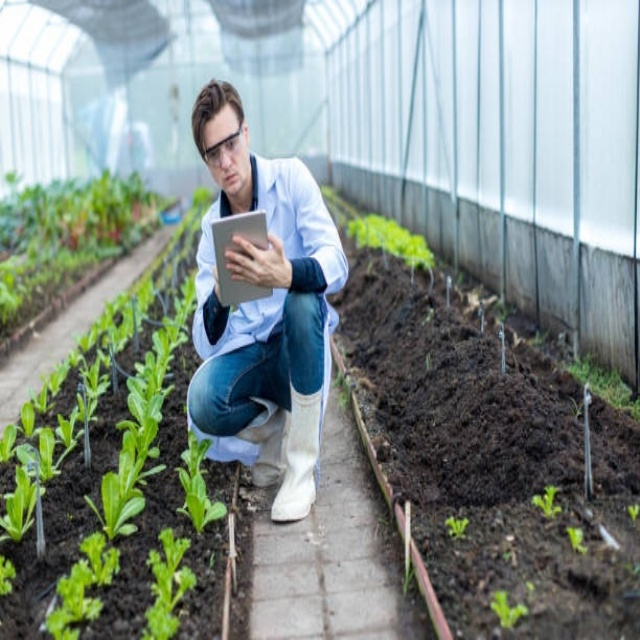Gafas: (202, 123, 244, 166)
Sin_guantes: (226, 230, 289, 290)
Sin_mascara: (216, 169, 242, 195)
